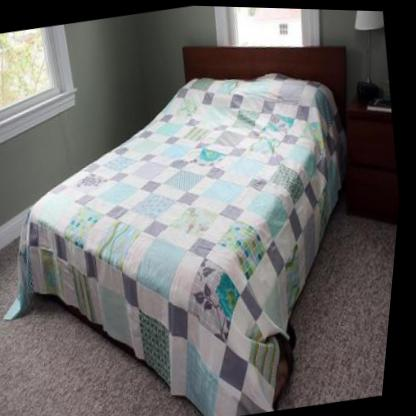Bed: (0, 10, 409, 416)
